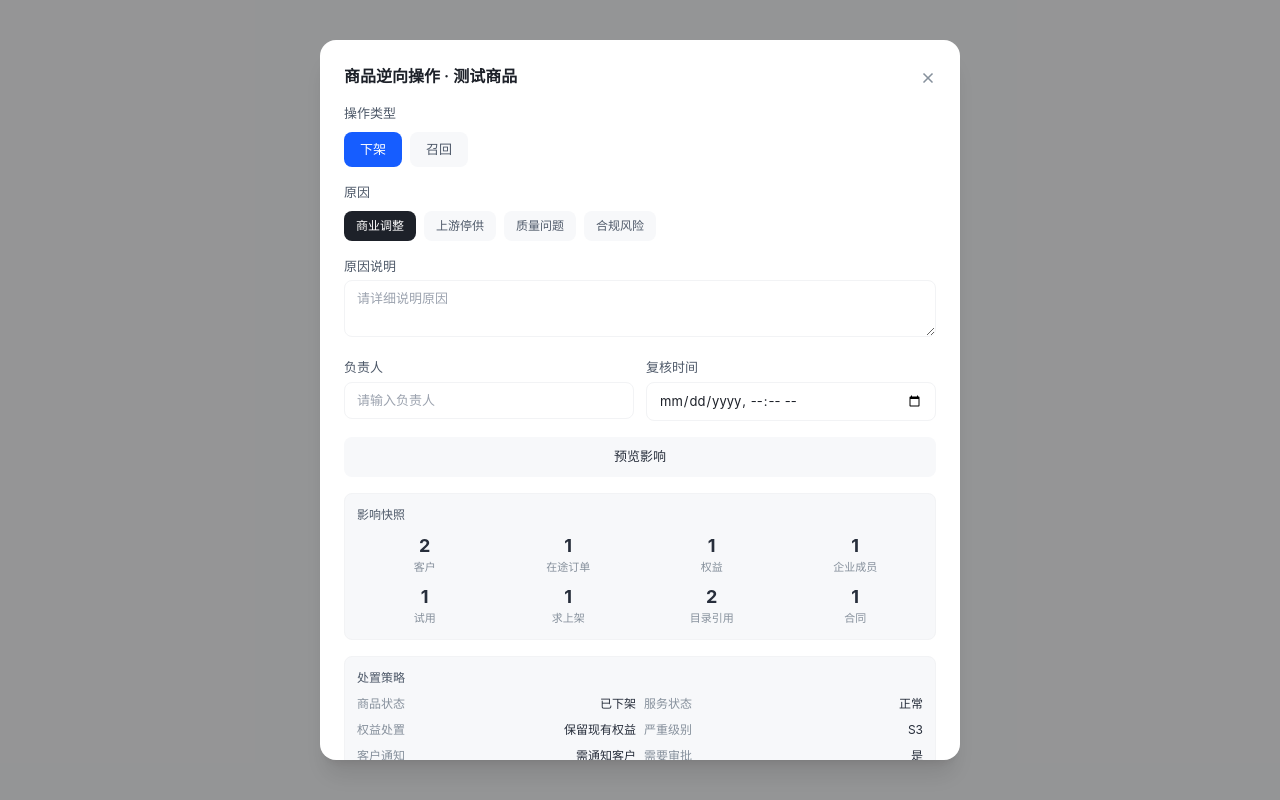
Test case: ProductReverseActionModal › changing action or reason invalidates the previous preview
Note: Change action
What coordinates should you click on to do the following:
click the button with test id "action-btn" showing "召回"
I would click on:
 (439, 149)
Its box is [410,132,468,167].
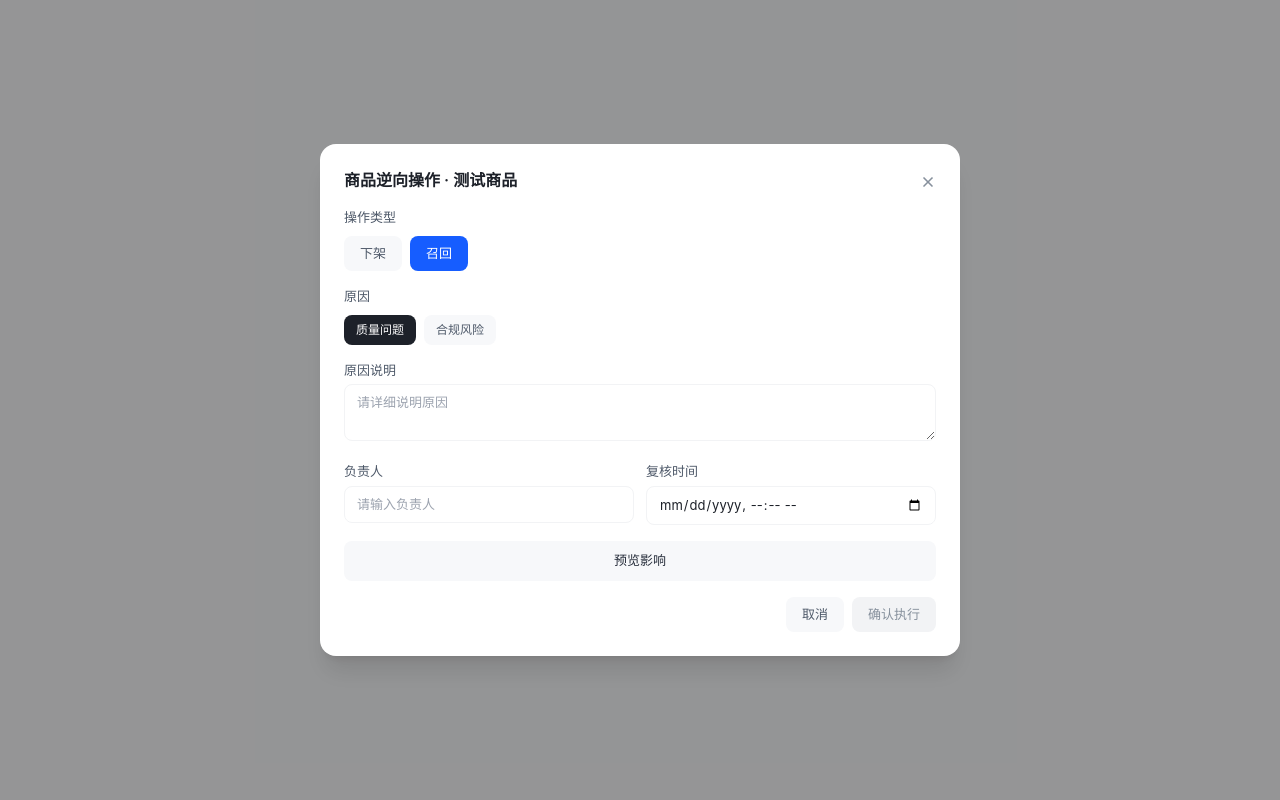
Expected: the button with test id "confirm-btn" is disabled, [852,596,936,632]
